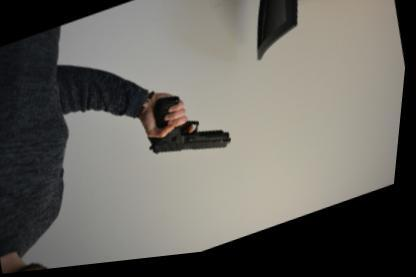pistol: (140, 80, 240, 178)
